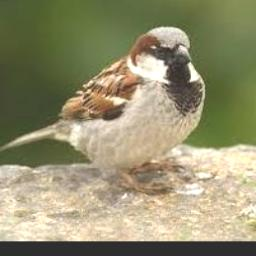Sparrow: (0, 26, 205, 195)
